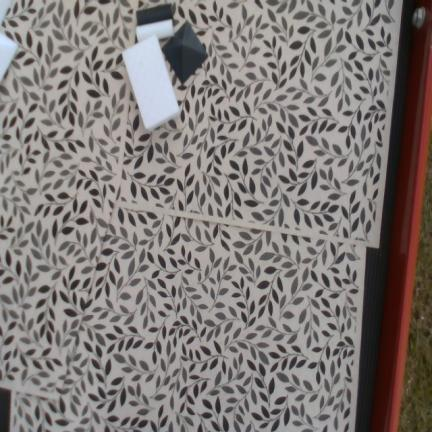Cilindro: (136, 19, 174, 43), (136, 3, 173, 25)
Paralelepipedo: (122, 35, 181, 132)
Piramide: (162, 20, 209, 83), (0, 31, 18, 82)
